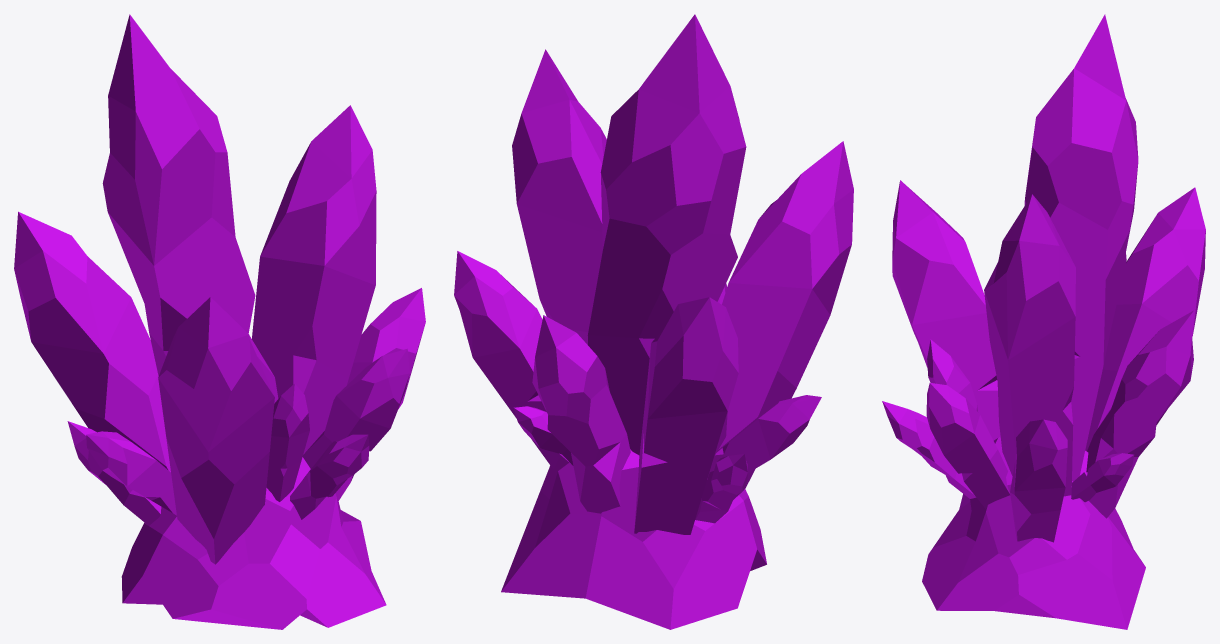
Rendered from Kristall.fbx.
The picture shows the model from 3 angles, left to right: view 1: azimuth 30°, elevation 25°; view 2: azimuth 150°, elevation 25°; view 3: azimuth 270°, elevation 25°; orthographic projection. The views are drawn at different scales.
Parts seen in each view (by area): view 1: Cube.008; view 2: Cube.008; view 3: Cube.008.
Part boxes in pixels (left/top/right/bottom): Cube.008: left=14, top=14, right=425, bottom=629; Cube.008: left=454, top=14, right=853, bottom=629; Cube.008: left=882, top=14, right=1205, bottom=629.
Bounding box in the file's own units: 823 × 1343 × 732.
